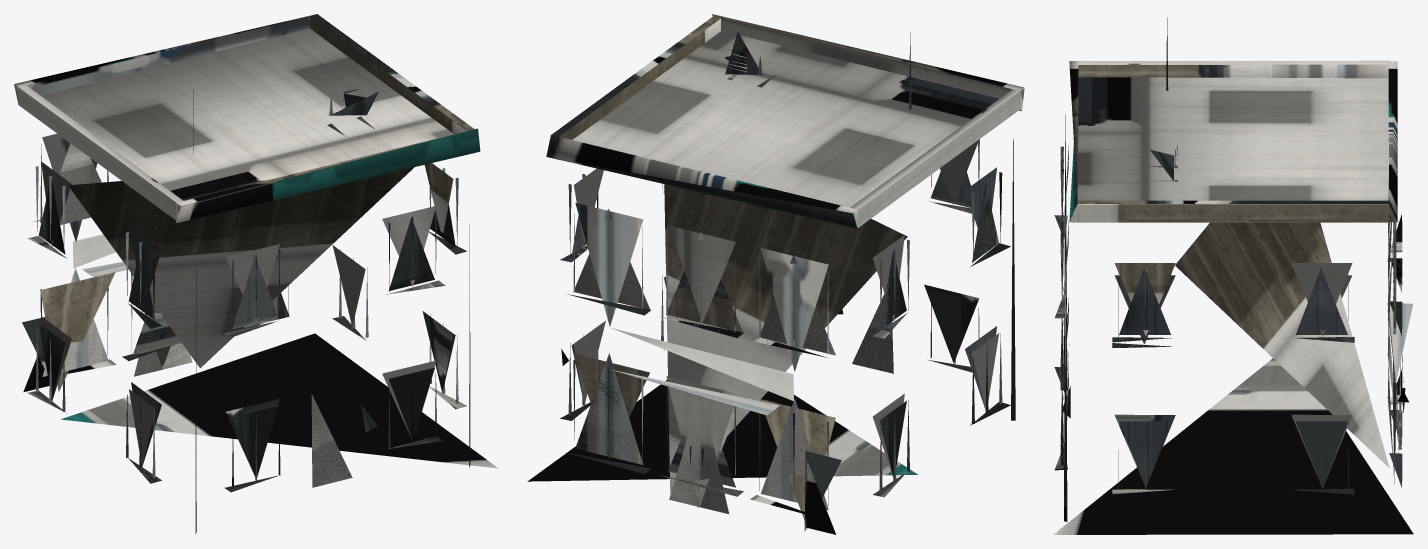
The model's file is public_003.lod2.obj.
3 renders of one model, left to right at view 1: azimuth 30°, elevation 25°; view 2: azimuth 150°, elevation 25°; view 3: azimuth 270°, elevation 25°, orthographic. The views are drawn at different scales.
Visible parts, largest first — view 1: public_003; view 2: public_003; view 3: public_003.
Part boxes in pixels (<box>): public_003: <box>14,14,498,533</box>; public_003: <box>527,14,1024,534</box>; public_003: <box>1053,17,1413,534</box>.
Size of the model in its own units: 6.5 by 8 by 6.51.
Materials: 1 (1 with a texture image).
